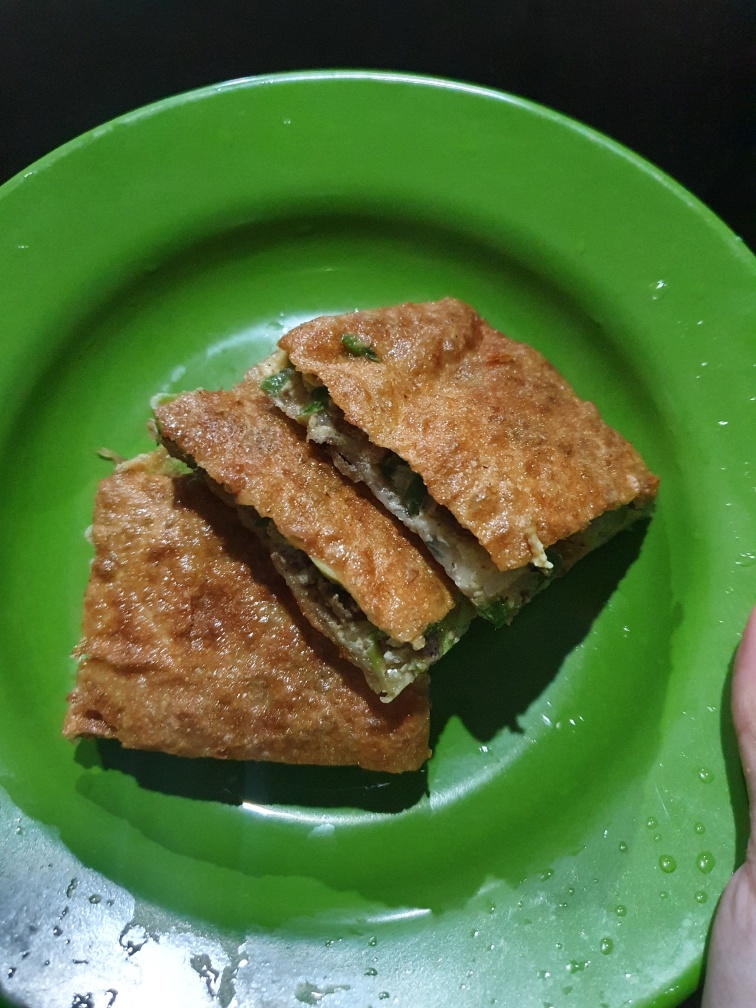martabak telor: (278, 277, 684, 613), (147, 347, 540, 679), (68, 453, 443, 777)
